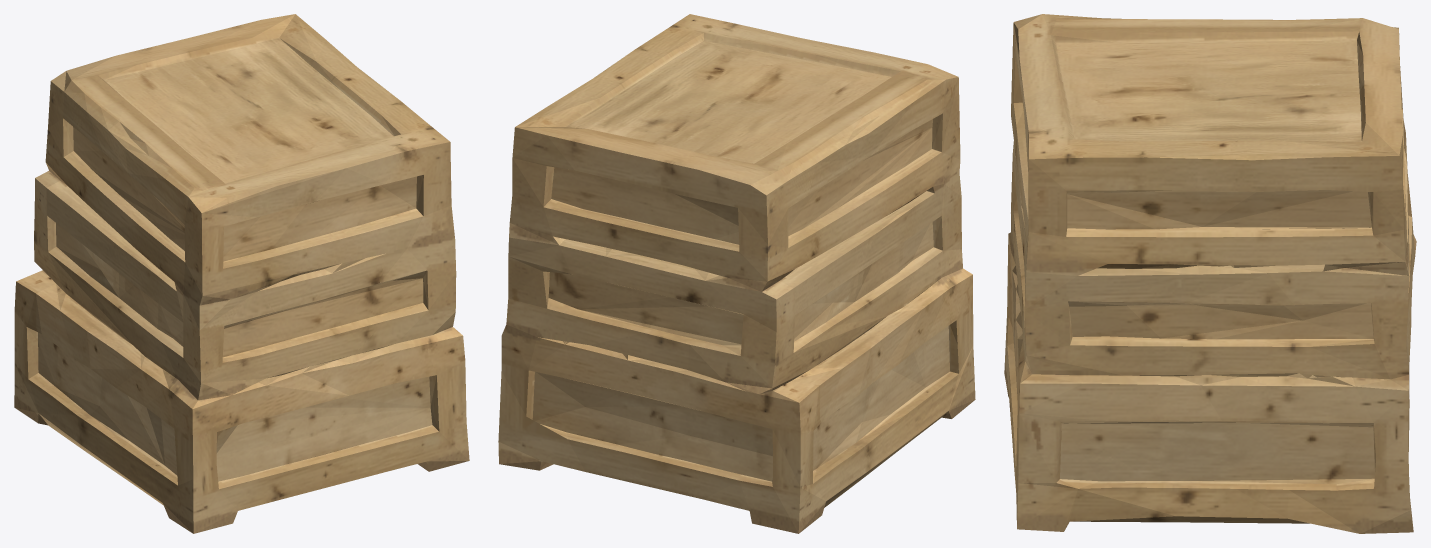
The model's file is crates.fbx.
The picture shows the model from 3 angles, left to right: view 1: azimuth 30°, elevation 25°; view 2: azimuth 150°, elevation 25°; view 3: azimuth 270°, elevation 25°; orthographic projection. The views are drawn at different scales.
Parts seen in each view (by area): view 1: Mesh_0; view 2: Mesh_0; view 3: Mesh_0.
Part boxes in pixels (x1,y1,x2,y2): Mesh_0: (14, 14, 469, 533); Mesh_0: (498, 14, 975, 533); Mesh_0: (1004, 14, 1416, 533).
Bounding box in the file's own units: 1.38 × 1.5 × 1.48.
Materials: 1 (1 with a texture image).
